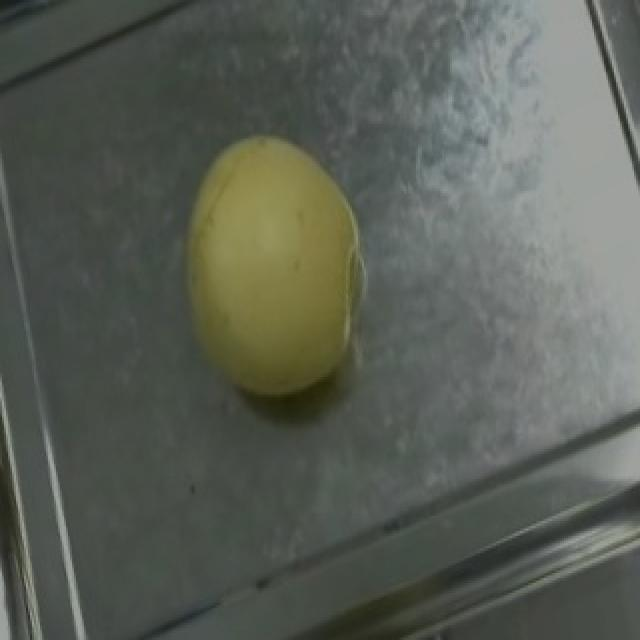Fruit: (140, 104, 406, 432)
